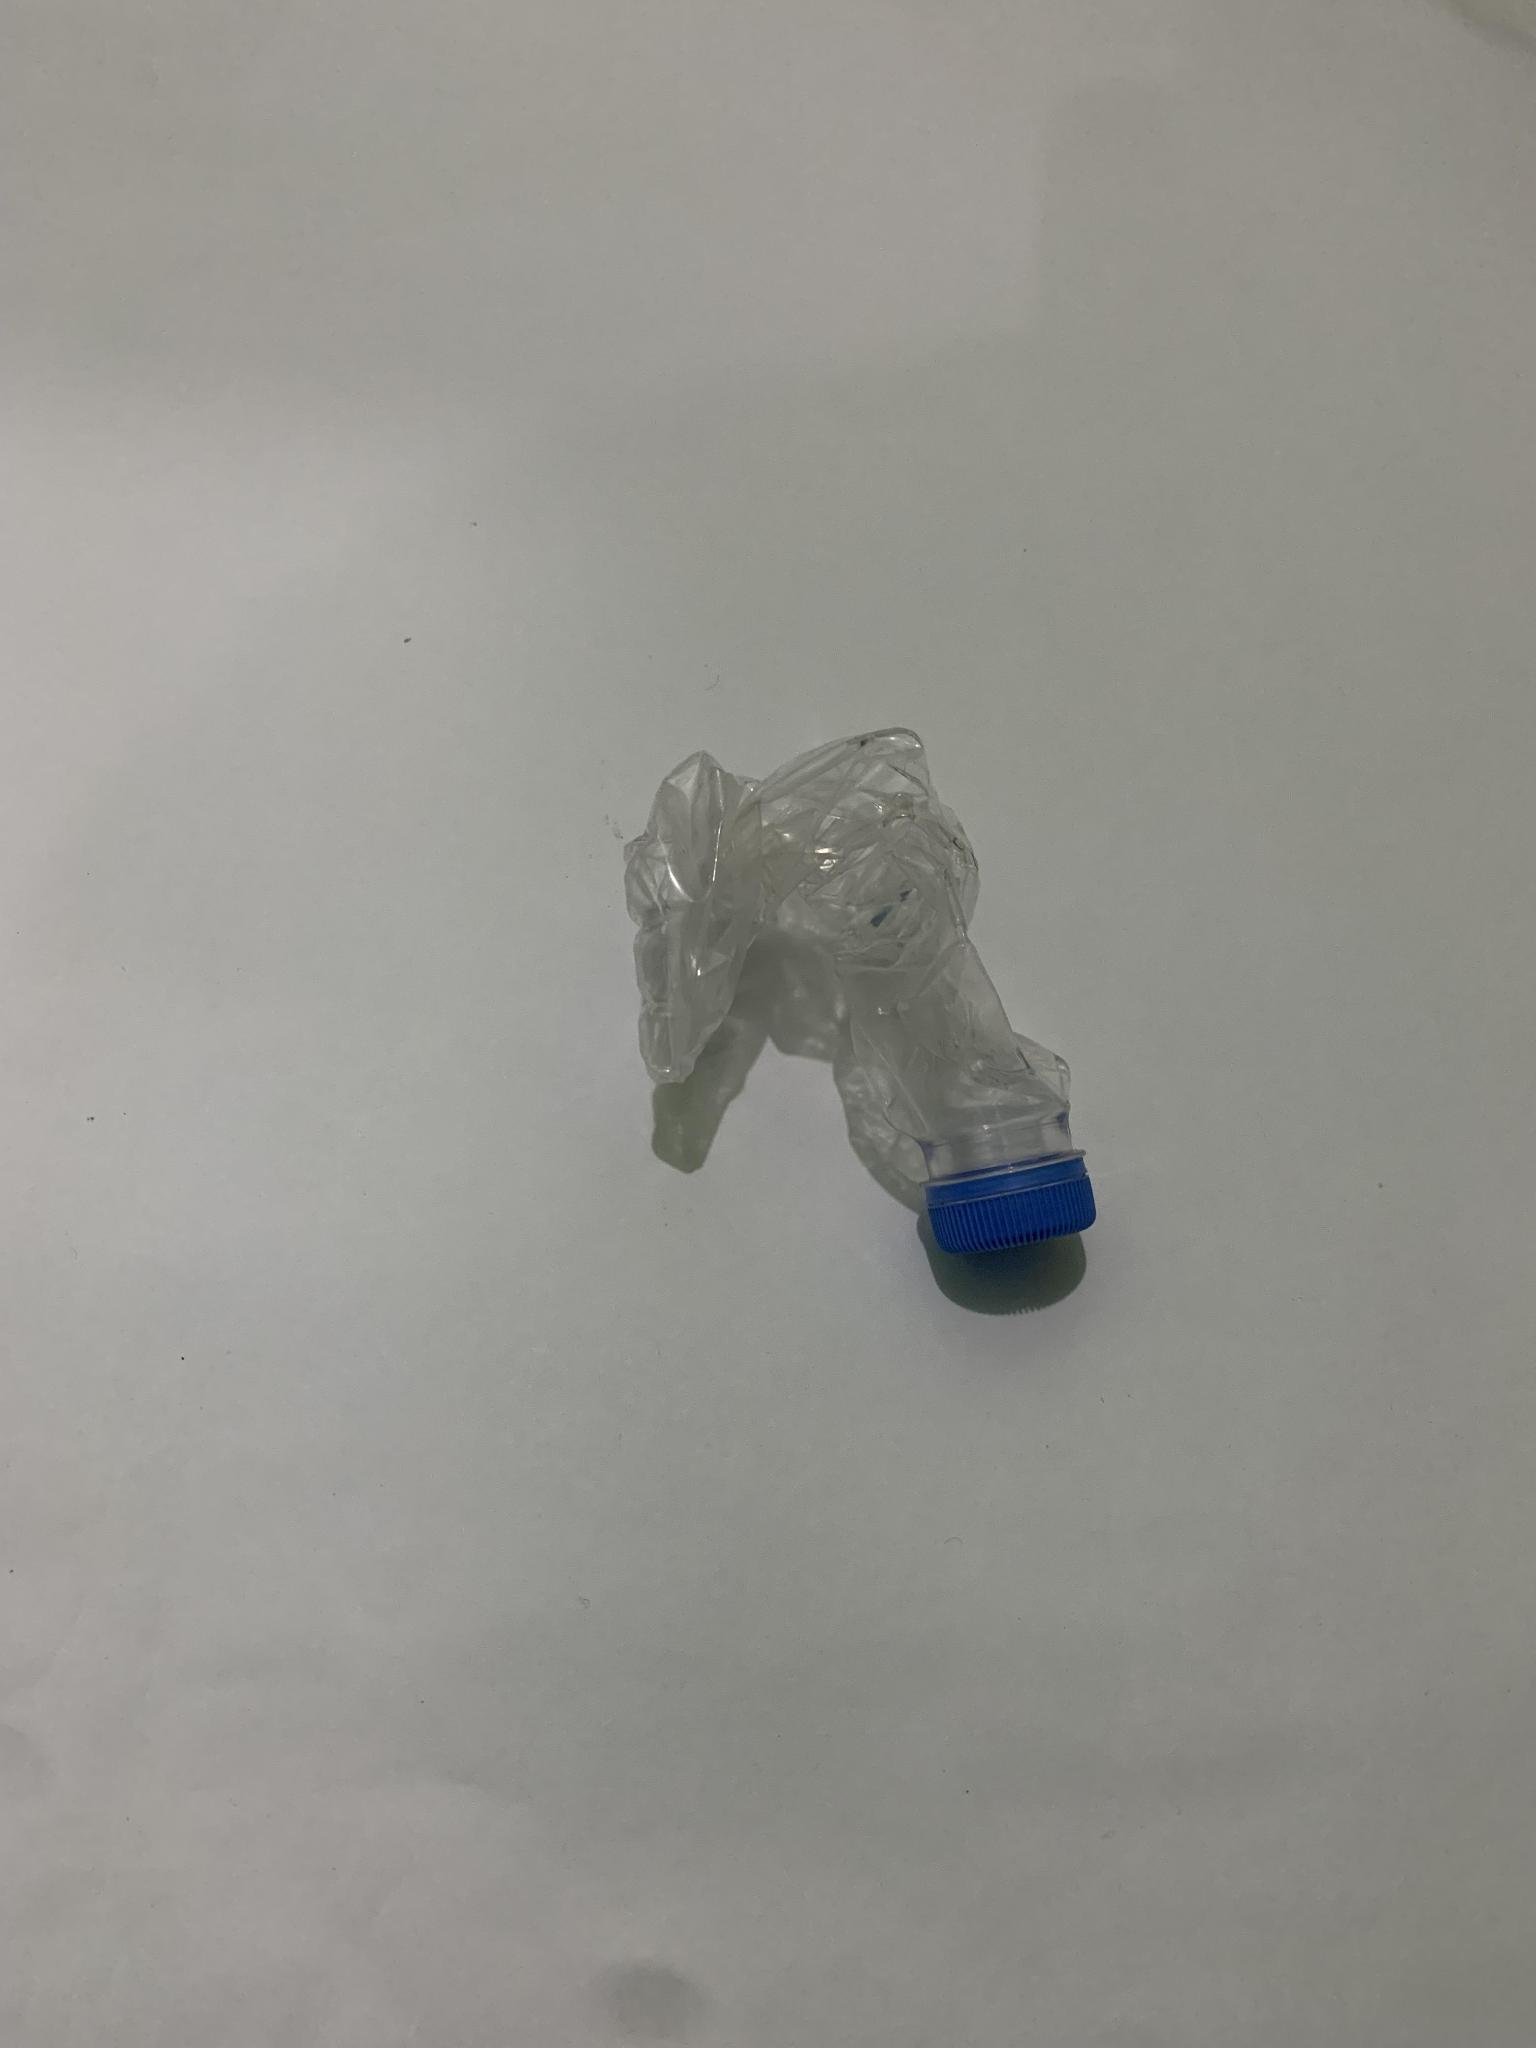bottle: (573, 676, 1181, 1316)
